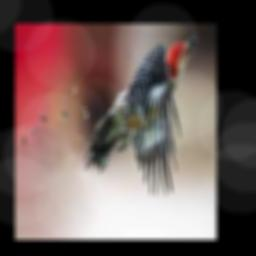Woodpecker: (84, 33, 199, 196)
